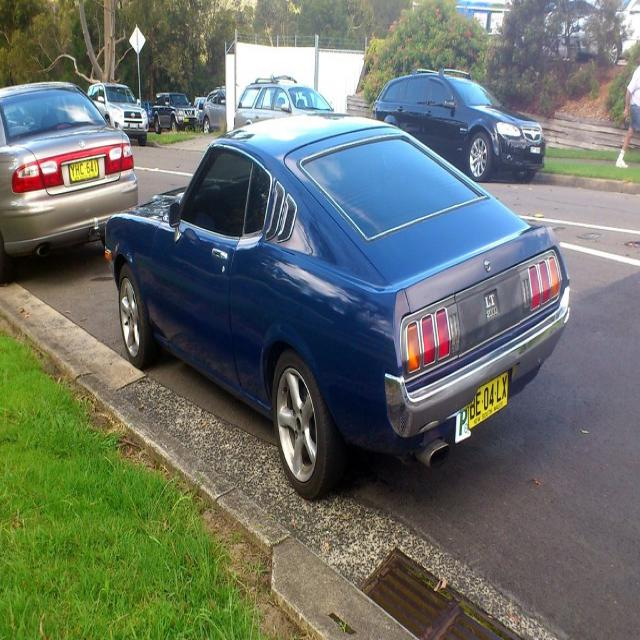other: (99, 111, 569, 503), (0, 77, 138, 276), (373, 61, 548, 186), (230, 76, 333, 127), (88, 83, 148, 147), (145, 84, 197, 133), (193, 89, 227, 140)
